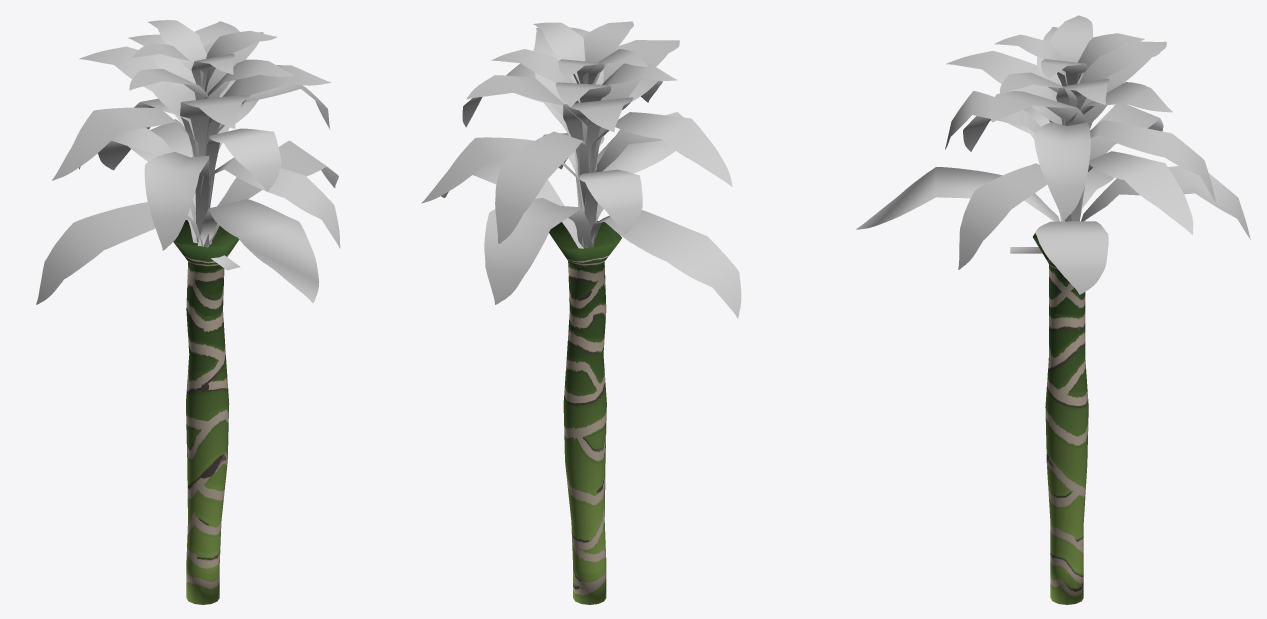
File: Model_Bush01_LargeStatic.fbx
3 renders of one model, left to right at view 1: azimuth 30°, elevation 25°; view 2: azimuth 150°, elevation 25°; view 3: azimuth 270°, elevation 25°, orthographic.
Visible parts, largest first — view 1: BigArb_Trunk; view 2: BigArb_Trunk; view 3: BigArb_Trunk.
Part boxes in pixels (left/top/right/bottom): BigArb_Trunk: left=36, top=20, right=340, bottom=604; BigArb_Trunk: left=421, top=21, right=741, bottom=604; BigArb_Trunk: left=856, top=15, right=1250, bottom=604.
Size of the model in its own units: 0.9638 by 1.7 by 1.27.
